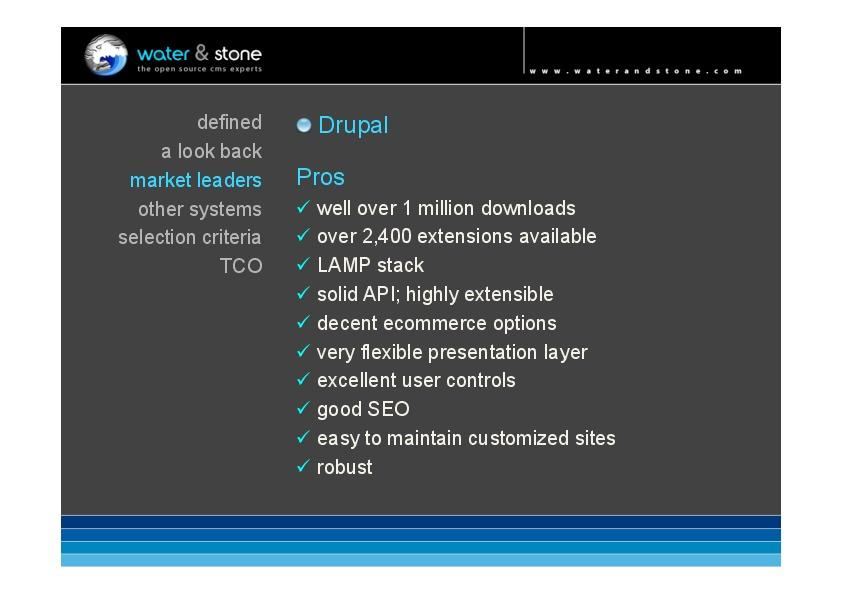paragraph: (289, 161, 658, 493)
subtitle: (102, 102, 273, 286), (131, 39, 277, 79)
title: (290, 109, 408, 143)
